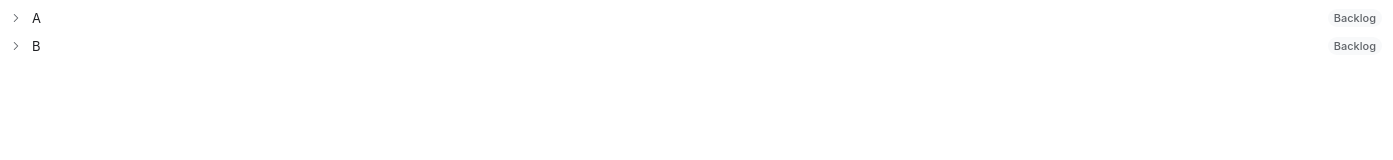
Scenario: TaskTree › renders a shared child under each of its parents (DAG, not a tree)
Click the 1st button named "Expand" at (16, 18), box [8,10,24,26]
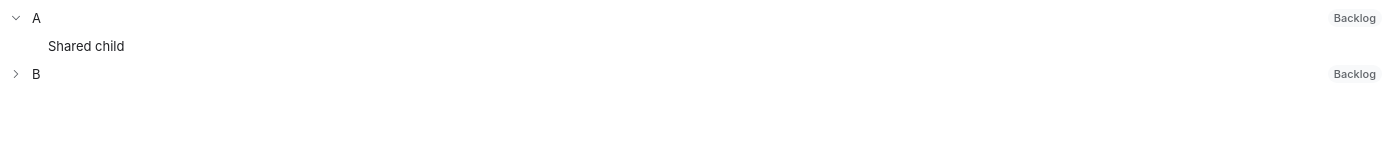
Click the button named "Expand" at (16, 74), box [8,66,24,82]
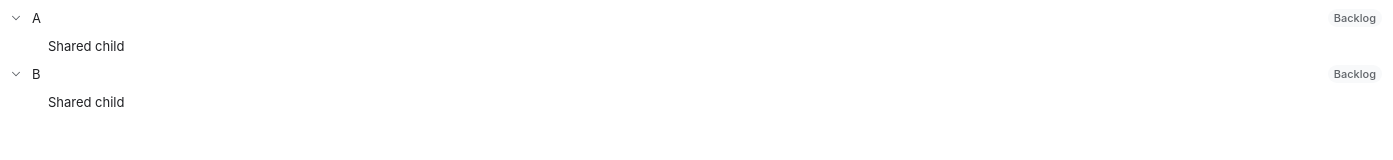
expect the text "Shared child" is shown 2 times: met, box [48,38,124,54]; [48,94,124,110]
